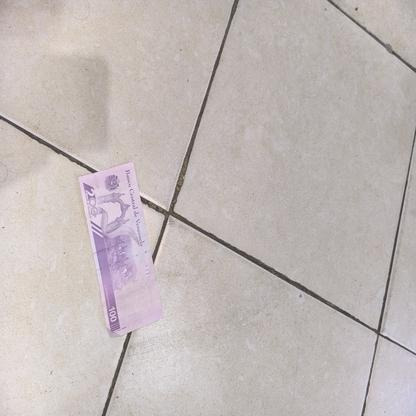one_hundred-back-vef: (77, 161, 164, 340)
